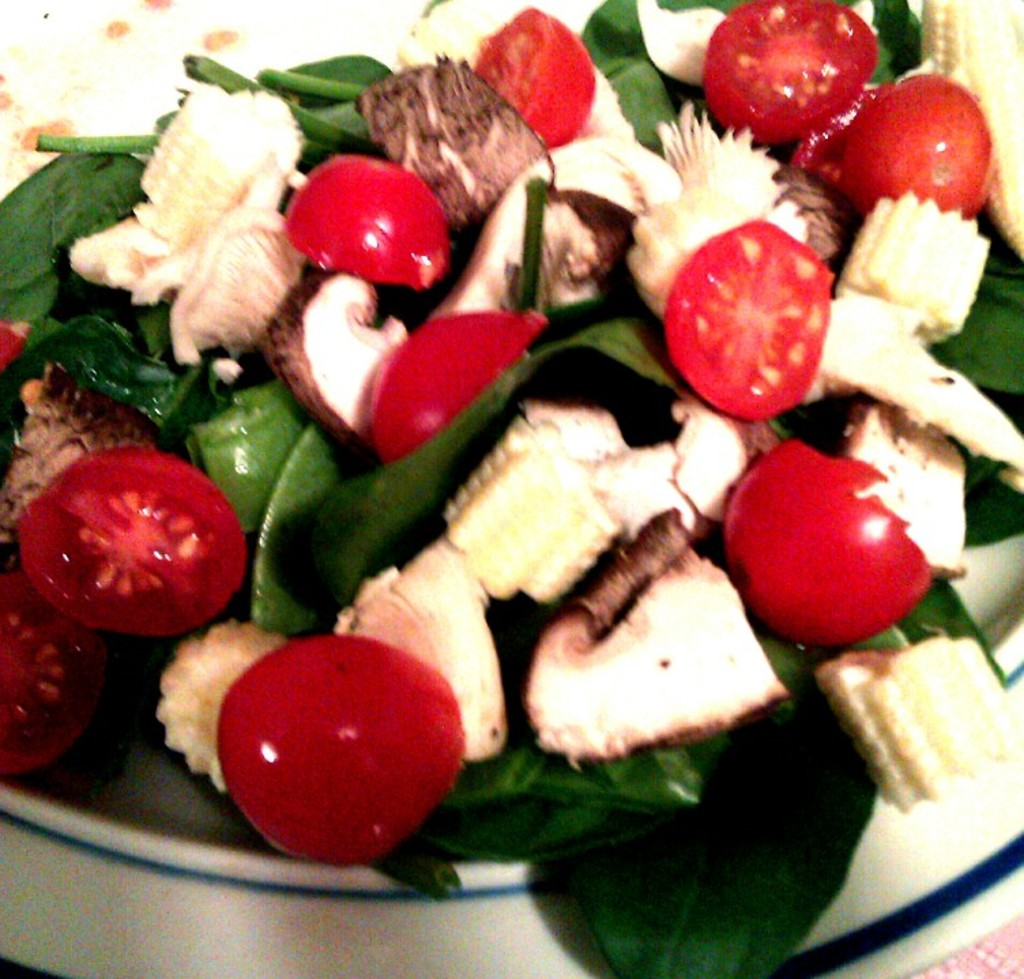Tomato: (218, 630, 468, 864), (723, 441, 929, 646), (21, 453, 244, 637), (661, 216, 836, 419), (368, 312, 548, 466), (700, 1, 881, 144), (284, 148, 450, 294), (0, 568, 112, 780), (843, 76, 995, 214), (471, 8, 595, 151)
